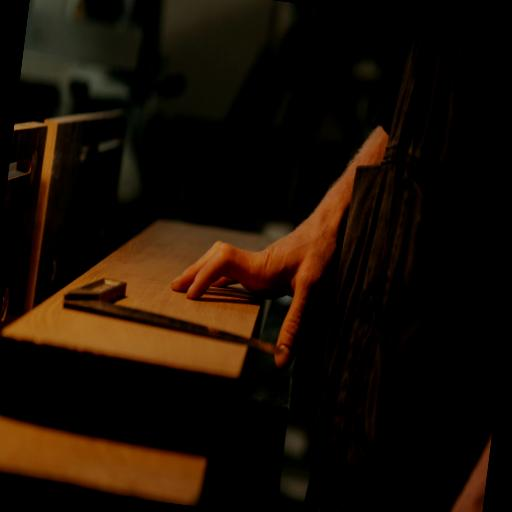Gloves: (161, 184, 344, 378)
